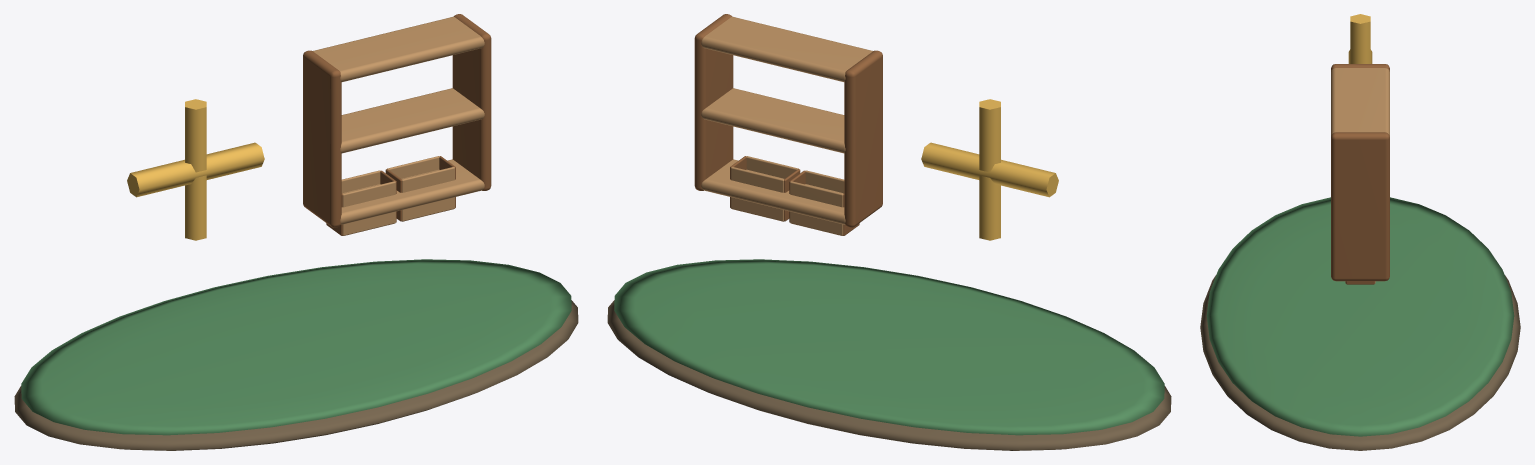
Rendered from complete-second-combined-shelf.glb.
3 views of the same model, side by side, from view 1: azimuth 30°, elevation 25°; view 2: azimuth 150°, elevation 25°; view 3: azimuth 270°, elevation 25° (orthographic). The views are drawn at different scales.
Visible parts, largest first — view 1: complete-second-combined-shelf_surface_01, complete-second-combined-shelf_surface_03, complete-second-combined-shelf_surface_04, complete-second-combined-shelf_surface_00, complete-second-combined-shelf_surface_02; view 2: complete-second-combined-shelf_surface_01, complete-second-combined-shelf_surface_03, complete-second-combined-shelf_surface_04, complete-second-combined-shelf_surface_00, complete-second-combined-shelf_surface_02; view 3: complete-second-combined-shelf_surface_01, complete-second-combined-shelf_surface_04, complete-second-combined-shelf_surface_00, complete-second-combined-shelf_surface_03, complete-second-combined-shelf_surface_02.
Part boxes in pixels (box(x1,y1,x2,y2)): complete-second-combined-shelf_surface_01: box(21, 259, 571, 435); complete-second-combined-shelf_surface_03: box(313, 16, 484, 235); complete-second-combined-shelf_surface_04: box(303, 14, 491, 235); complete-second-combined-shelf_surface_00: box(14, 300, 578, 450); complete-second-combined-shelf_surface_02: box(127, 99, 264, 240); complete-second-combined-shelf_surface_01: box(614, 259, 1164, 435); complete-second-combined-shelf_surface_03: box(701, 16, 872, 235); complete-second-combined-shelf_surface_04: box(694, 14, 882, 235); complete-second-combined-shelf_surface_00: box(607, 300, 1171, 450); complete-second-combined-shelf_surface_02: box(921, 99, 1058, 240); complete-second-combined-shelf_surface_01: box(1206, 197, 1514, 436); complete-second-combined-shelf_surface_04: box(1331, 64, 1389, 284); complete-second-combined-shelf_surface_00: box(1200, 275, 1520, 450); complete-second-combined-shelf_surface_03: box(1331, 68, 1389, 283); complete-second-combined-shelf_surface_02: box(1348, 14, 1372, 63).
Size of the model in its own units: 4.56 by 2.49 by 2.5.
